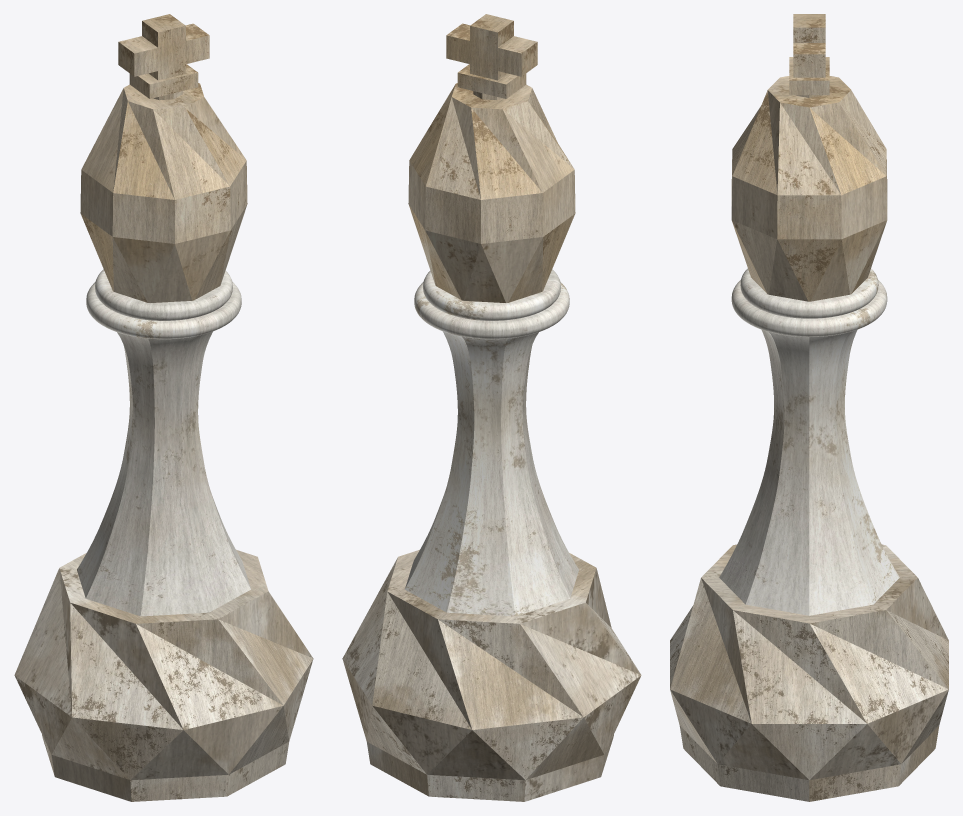
The model's file is king-white-hd.glb.
3 views of the same model, side by side, from view 1: azimuth 30°, elevation 25°; view 2: azimuth 150°, elevation 25°; view 3: azimuth 270°, elevation 25° (orthographic).
Visible parts, largest first — view 1: Lithoxyl_King_Ivory; view 2: Lithoxyl_King_Ivory; view 3: Lithoxyl_King_Ivory.
Part boxes in pixels (x1,y1,x2,y2): Lithoxyl_King_Ivory: [14, 14, 313, 801]; Lithoxyl_King_Ivory: [342, 14, 641, 801]; Lithoxyl_King_Ivory: [670, 14, 948, 801].
Size of the model in its own units: 0.5731 by 1.65 by 0.5731.
3 materials, 3 textured.
